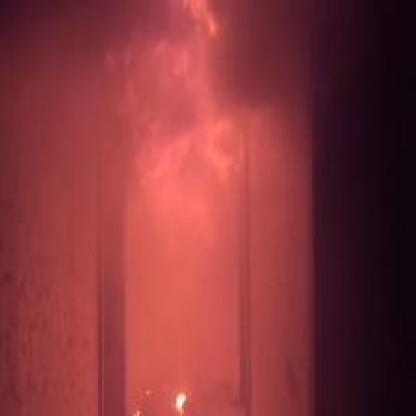fire: (100, 3, 248, 169), (156, 378, 203, 412)
